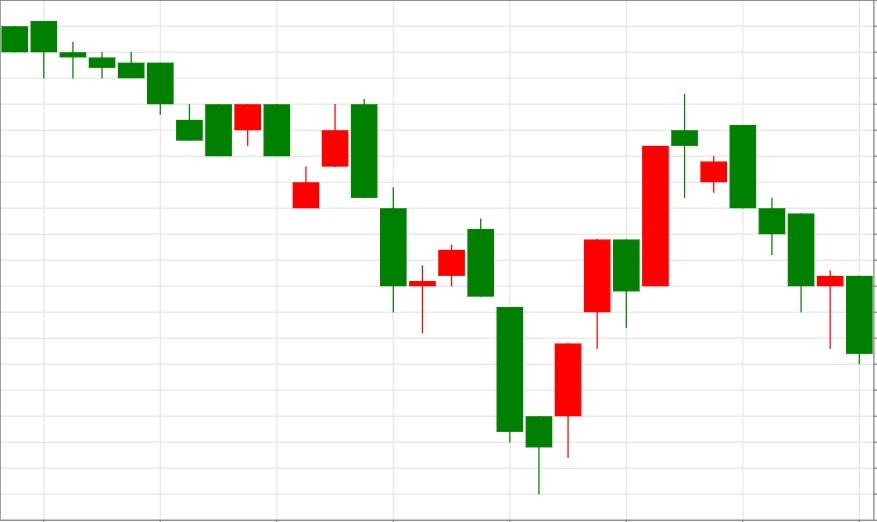bearish_engulfing_fall: (525, 94, 757, 496), (408, 218, 495, 333), (292, 99, 379, 208)
